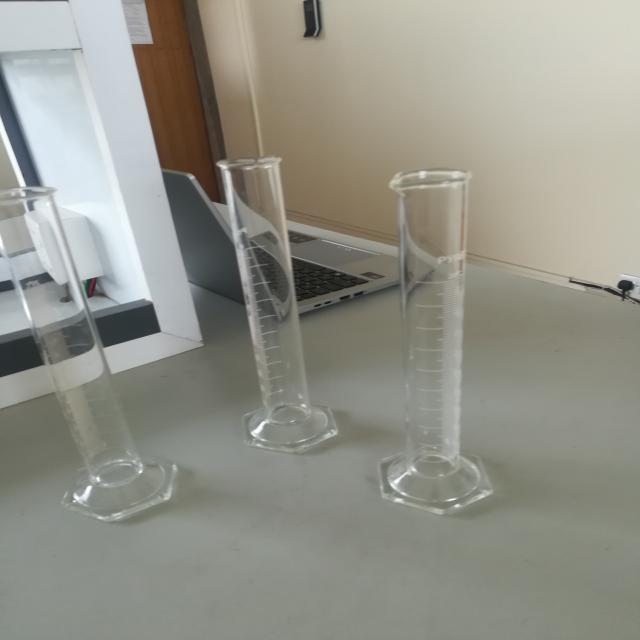Measuring_Cylinder: (0, 169, 192, 552), (353, 147, 531, 540), (198, 144, 368, 485)
